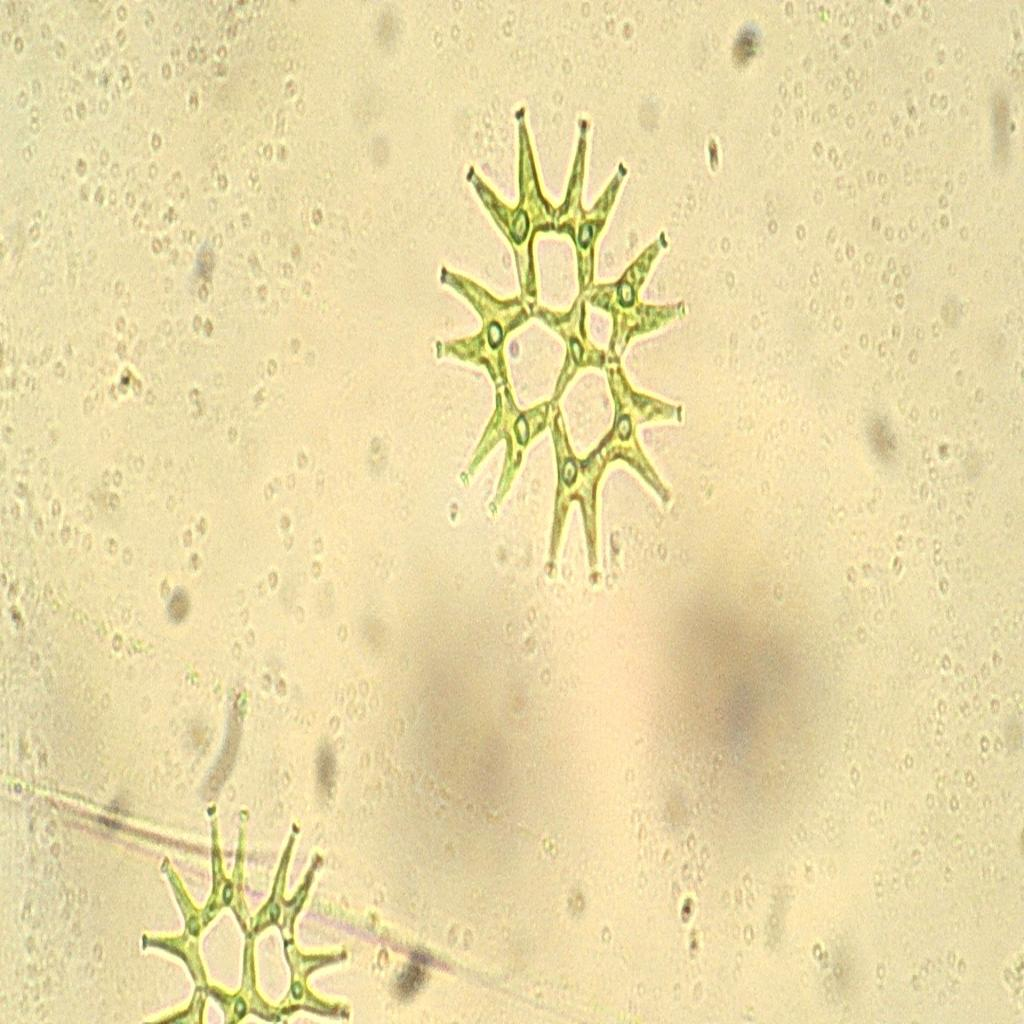Pediastrum_1T: (422, 83, 724, 621)
